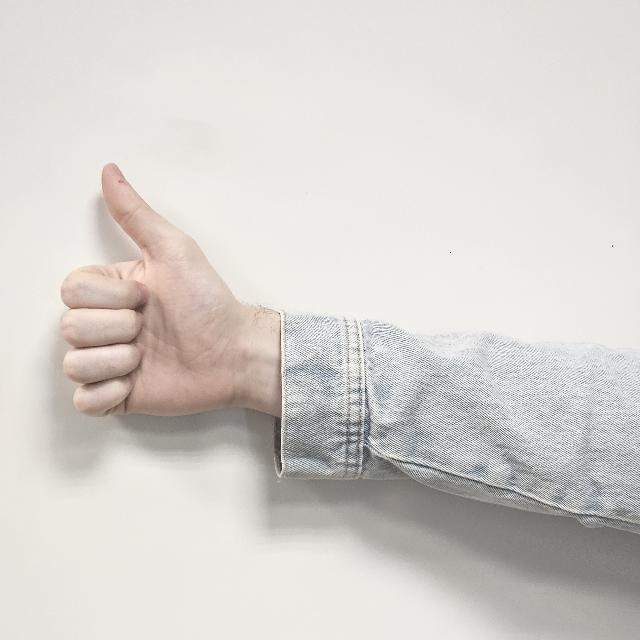Start: (62, 164, 248, 468)
